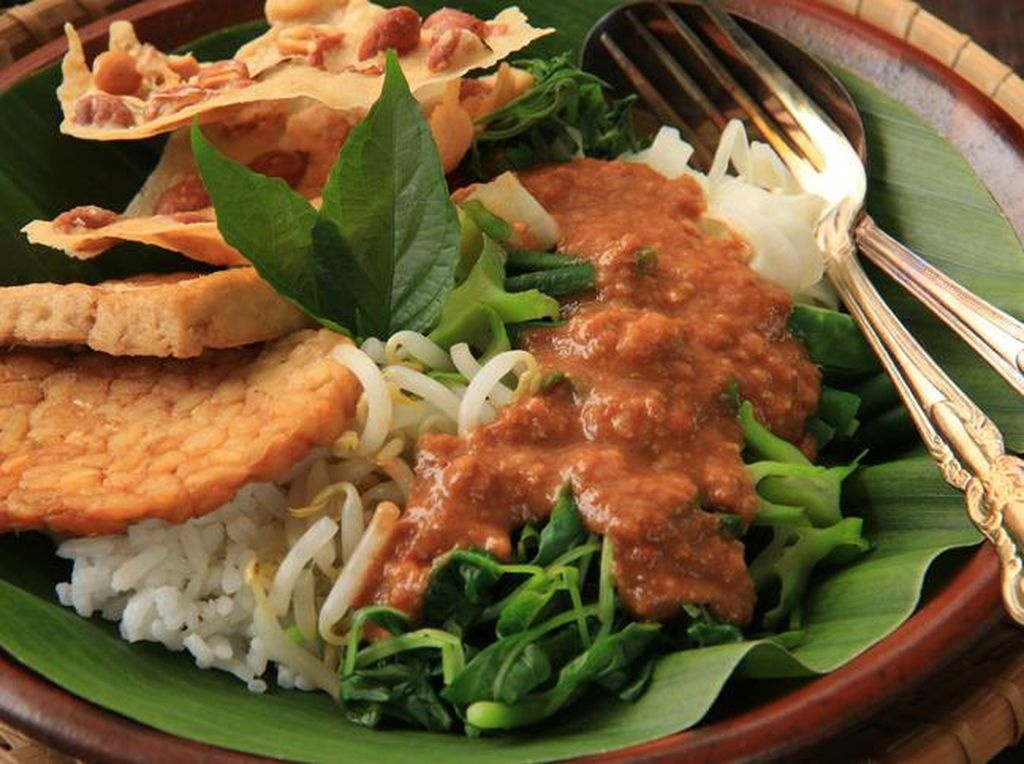pecel: (110, 158, 847, 671)
